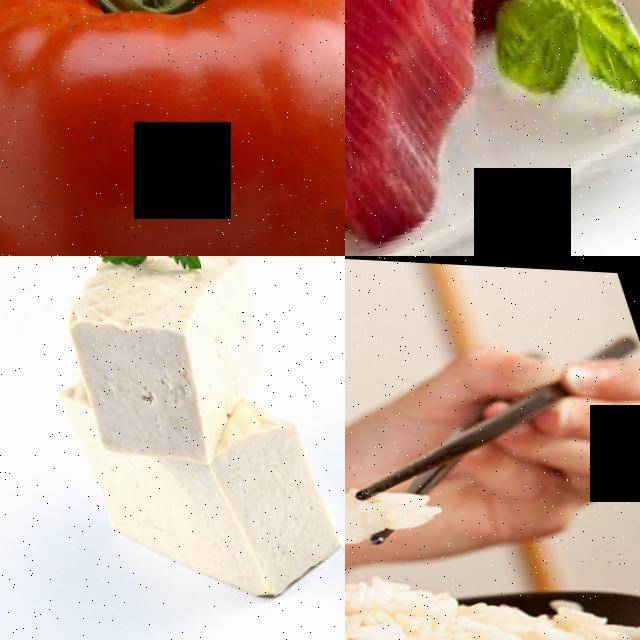tofu: (40, 256, 236, 486), (178, 384, 345, 610)
tomato: (0, 0, 345, 256)
tuna: (345, 0, 538, 256)
white rice: (345, 488, 640, 640)
